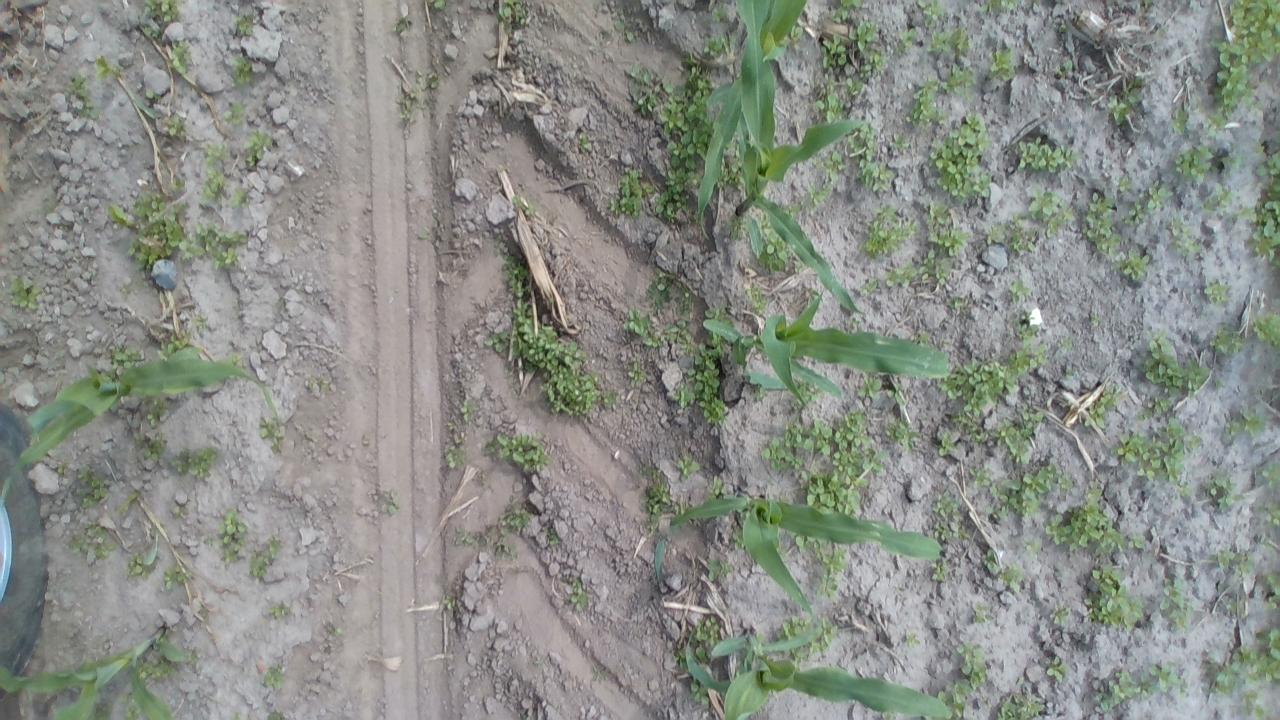Maize: (2, 344, 281, 512), (736, 0, 860, 312), (668, 494, 944, 617), (702, 288, 959, 406), (698, 0, 809, 239), (686, 632, 951, 720), (0, 622, 189, 720), (114, 78, 188, 195), (134, 495, 204, 597), (139, 21, 201, 110)
Weeds: (492, 250, 616, 416), (761, 412, 886, 516), (1214, 0, 1280, 116), (1114, 423, 1204, 498), (1042, 487, 1130, 554), (929, 110, 989, 202), (1238, 153, 1280, 260), (1211, 626, 1280, 689), (664, 73, 710, 164), (1142, 328, 1210, 388), (1082, 563, 1143, 626), (686, 336, 730, 423), (1094, 664, 1176, 710), (998, 462, 1076, 510), (945, 363, 1012, 414), (785, 153, 833, 217), (136, 198, 180, 266), (482, 432, 550, 474), (866, 204, 916, 256), (1160, 577, 1204, 636), (777, 616, 838, 658), (928, 202, 974, 254), (194, 222, 248, 266), (1083, 191, 1122, 251), (609, 166, 653, 218), (654, 168, 694, 225), (1015, 137, 1080, 172), (999, 407, 1042, 459), (626, 64, 662, 116), (816, 544, 848, 600), (998, 688, 1052, 720), (642, 465, 674, 514), (1207, 473, 1244, 513), (172, 446, 216, 479), (958, 644, 992, 686), (1088, 388, 1120, 430), (851, 120, 882, 162), (856, 160, 896, 192), (250, 536, 282, 576), (222, 512, 246, 564), (815, 78, 843, 122), (938, 683, 970, 720), (1240, 400, 1271, 438), (67, 75, 94, 118), (8, 278, 44, 310), (916, 79, 942, 123), (78, 470, 108, 508), (692, 615, 718, 658), (921, 248, 952, 284), (1174, 145, 1210, 176), (815, 37, 847, 71), (666, 308, 694, 346), (1006, 220, 1038, 253), (1220, 546, 1253, 576), (644, 278, 673, 312), (1210, 327, 1246, 354), (760, 233, 786, 270), (1028, 190, 1060, 220), (824, 0, 862, 24), (1120, 248, 1150, 278), (944, 62, 976, 90), (848, 21, 880, 49), (258, 414, 281, 452), (987, 49, 1014, 81), (1255, 312, 1280, 346), (623, 306, 653, 334), (1014, 347, 1046, 373), (245, 130, 268, 166), (1105, 95, 1130, 128), (1140, 395, 1170, 422), (960, 418, 987, 447), (887, 421, 916, 448), (1240, 690, 1266, 720), (721, 150, 741, 188), (1047, 208, 1074, 236), (860, 53, 889, 79), (456, 526, 488, 549), (969, 465, 995, 492), (933, 491, 958, 519), (886, 265, 917, 286), (1205, 283, 1230, 309), (146, 1, 180, 20), (115, 344, 144, 366), (502, 508, 532, 528), (949, 26, 970, 54), (1001, 567, 1025, 591), (262, 665, 286, 689), (147, 403, 169, 429), (226, 102, 254, 122), (203, 171, 226, 195), (483, 332, 508, 354), (108, 203, 130, 228), (707, 557, 728, 583), (931, 522, 958, 542), (926, 30, 948, 53), (224, 184, 247, 206), (921, 0, 942, 24), (1262, 570, 1280, 598), (564, 584, 589, 604), (144, 437, 164, 462), (95, 58, 120, 78), (896, 30, 915, 56), (706, 477, 728, 499), (1148, 186, 1168, 210), (171, 44, 191, 68), (749, 286, 766, 314), (980, 0, 1014, 14), (1262, 504, 1280, 530), (1176, 236, 1202, 254), (616, 22, 638, 43), (859, 379, 880, 401), (382, 492, 402, 515), (1009, 276, 1028, 300), (160, 337, 190, 352), (204, 144, 229, 162), (233, 60, 253, 82), (940, 432, 956, 459), (1168, 218, 1192, 236), (240, 15, 260, 36), (1206, 114, 1225, 136), (889, 132, 908, 154), (180, 241, 202, 260), (1226, 415, 1242, 440), (1048, 660, 1068, 680), (67, 533, 87, 553), (690, 682, 709, 703), (678, 459, 701, 476), (828, 152, 843, 178), (678, 390, 697, 410), (163, 114, 182, 134), (885, 390, 910, 405), (702, 40, 724, 57), (1214, 183, 1231, 205), (730, 216, 744, 242), (858, 275, 876, 295), (1126, 204, 1146, 222), (143, 660, 163, 678), (500, 0, 520, 18), (1264, 464, 1280, 486), (1172, 110, 1188, 132), (160, 571, 176, 593), (643, 330, 662, 348), (984, 226, 1003, 244), (1048, 603, 1070, 618), (846, 78, 864, 96), (578, 133, 592, 156), (1017, 325, 1039, 339), (94, 544, 116, 558), (1116, 174, 1132, 193), (129, 558, 145, 577), (933, 564, 949, 582), (493, 540, 511, 556), (272, 602, 290, 618), (1224, 152, 1244, 166), (711, 5, 726, 23), (946, 299, 964, 314), (1024, 535, 1039, 553), (627, 366, 642, 382), (1126, 76, 1146, 88), (971, 608, 986, 624), (905, 630, 920, 646), (794, 533, 812, 546), (1088, 312, 1102, 328), (1060, 62, 1074, 78), (444, 453, 460, 467), (124, 706, 140, 720), (803, 388, 820, 401), (706, 306, 726, 317), (1204, 197, 1218, 212), (513, 194, 526, 210), (85, 522, 102, 534), (120, 495, 130, 515), (729, 524, 740, 542), (461, 400, 472, 418), (1134, 534, 1148, 548), (398, 17, 409, 33), (316, 375, 329, 388), (548, 532, 560, 546), (679, 290, 690, 305), (228, 352, 241, 364), (173, 569, 184, 583), (792, 26, 802, 41), (1255, 139, 1263, 155), (443, 596, 452, 610), (268, 713, 286, 720), (756, 389, 766, 399), (434, 0, 444, 9), (921, 332, 932, 340), (1056, 338, 1065, 347), (402, 111, 410, 119)
